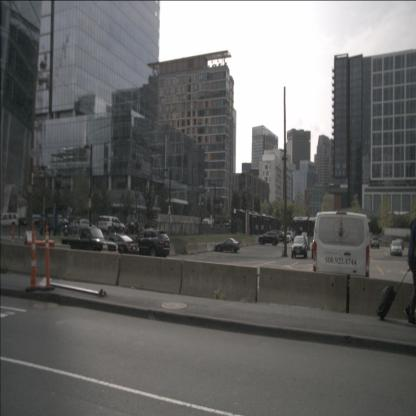cone: (25, 221, 42, 292), (41, 225, 55, 292), (9, 230, 17, 272), (281, 242, 284, 257)
